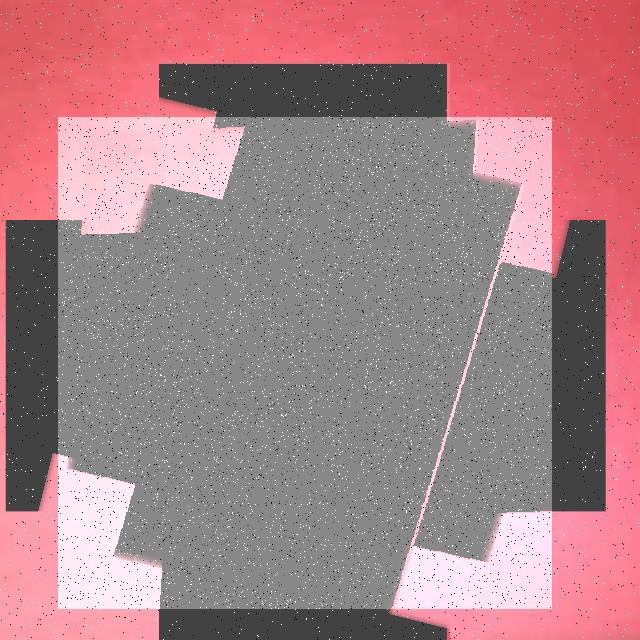lima puluh ribu rupiah: (58, 117, 552, 609)
